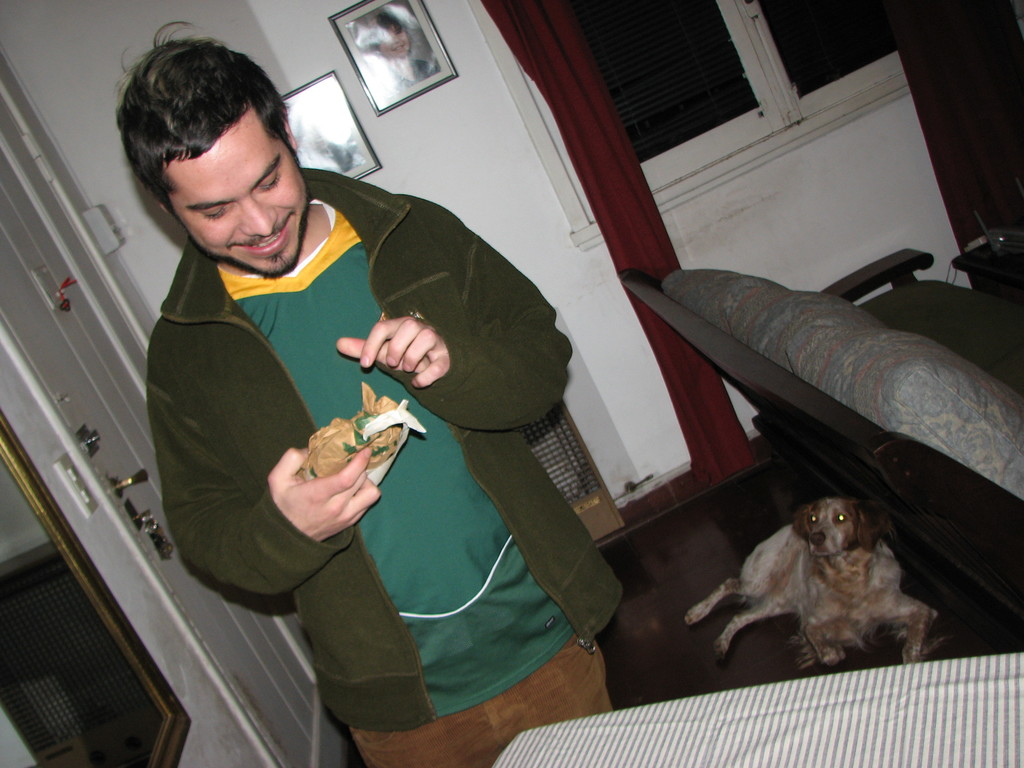Animal: (681, 495, 950, 663)
